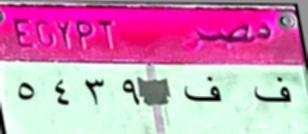3: (80, 76, 110, 112)
4: (51, 77, 71, 112)
5: (12, 75, 39, 110)
9: (120, 75, 142, 109)
faa: (253, 72, 290, 113), (182, 76, 226, 106)
